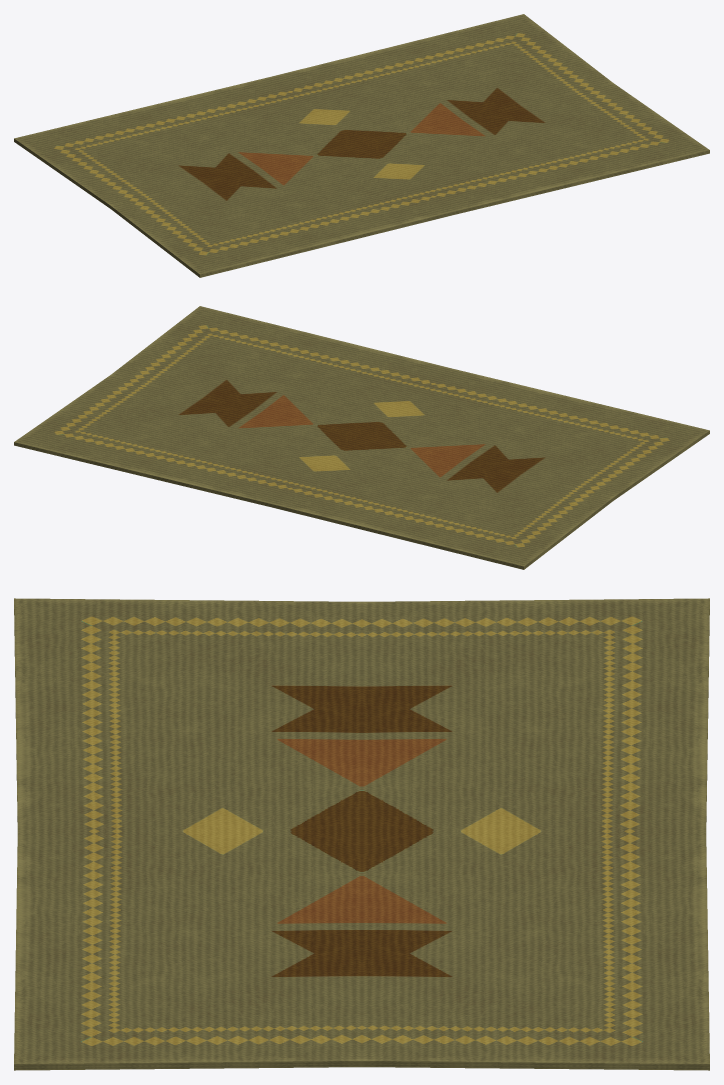
The model's file is AIR0110009.fbx.
3 renders of one model, top to bottom at view 1: azimuth 30°, elevation 25°; view 2: azimuth 150°, elevation 25°; view 3: azimuth 270°, elevation 25°, orthographic. The views are drawn at different scales.
Visible parts, largest first — view 1: smAIR0110009; view 2: smAIR0110009; view 3: smAIR0110009.
Boxes of the visible parts, box(x1,y1,x2,y2) form: smAIR0110009: box(14, 14, 709, 277); smAIR0110009: box(14, 306, 709, 569); smAIR0110009: box(14, 598, 709, 1070).
Bounding box in the file's own units: 230 × 1.46 × 145.
1 material, 1 textured.
